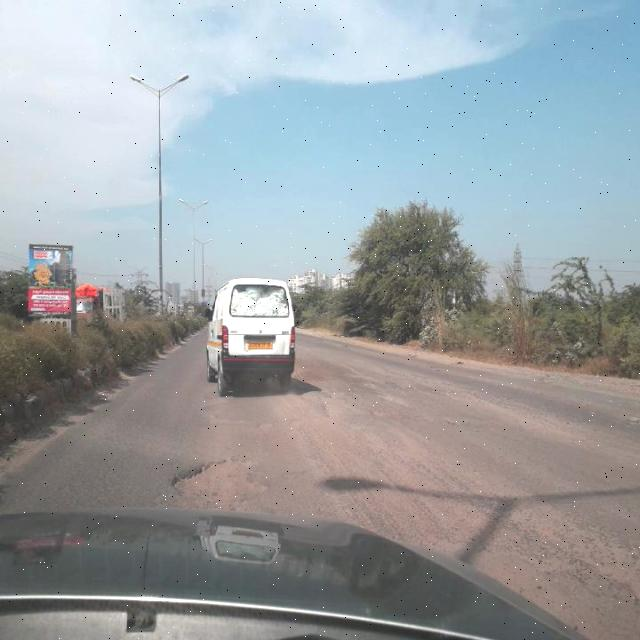D40: (314, 440, 640, 607), (164, 450, 290, 506), (414, 376, 508, 434), (307, 372, 400, 429)
